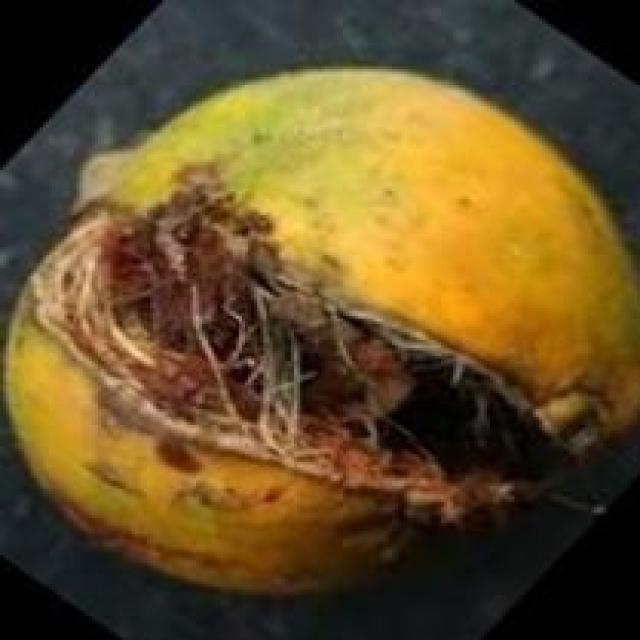damaged: (0, 66, 637, 616)
